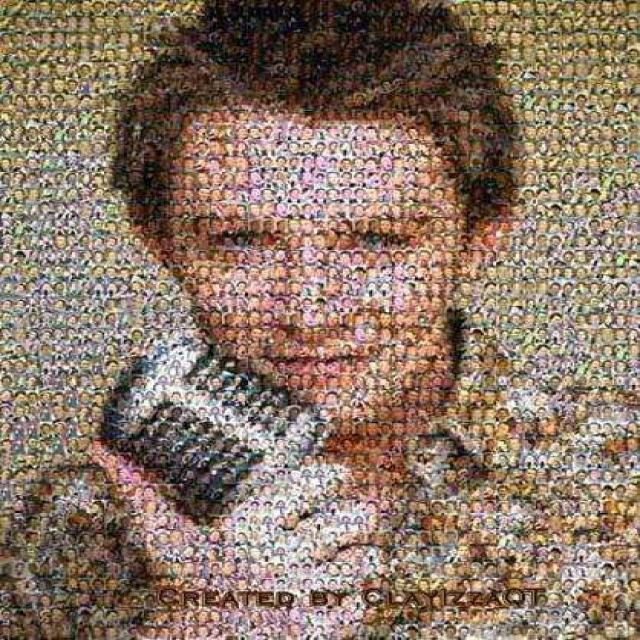microphone: (97, 334, 350, 510)
